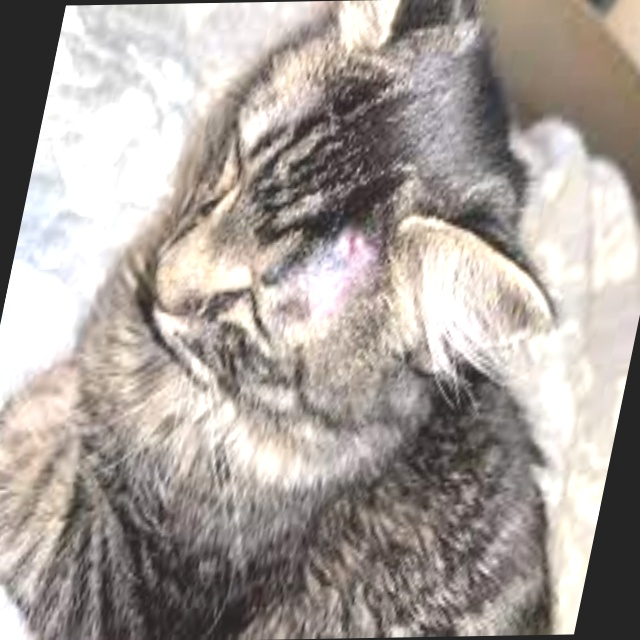ringworm: (276, 218, 390, 351)
